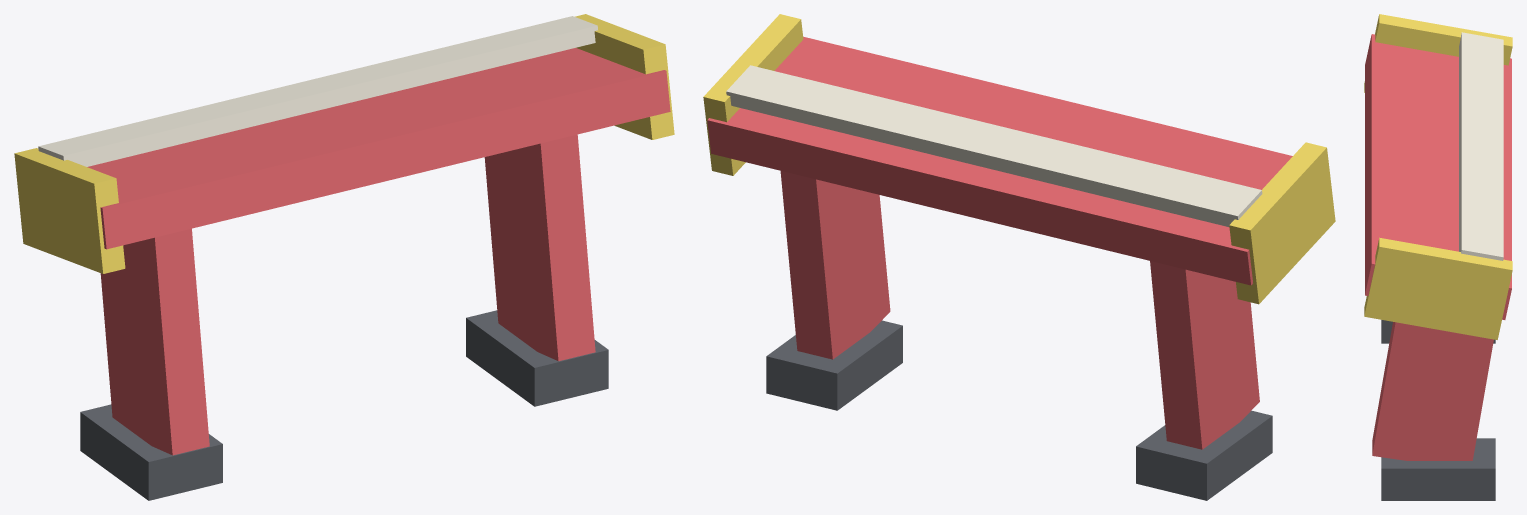
Rendered from lawn-mowing-simulator-kit-racing-spoiler-64b6e4a9__27364.glb.
3 renders of one model, left to right at view 1: azimuth 30°, elevation 25°; view 2: azimuth 150°, elevation 25°; view 3: azimuth 270°, elevation 25°, orthographic. The views are drawn at different scales.
Parts seen in each view (by area): view 1: racing-spoiler; view 2: racing-spoiler; view 3: racing-spoiler.
Part boxes in pixels (box(x1,y1,x2,y2)): racing-spoiler: box(14, 14, 674, 500); racing-spoiler: box(703, 14, 1335, 500); racing-spoiler: box(1364, 14, 1512, 500).
Bounding box in the file's own units: 0.77 × 0.4271 × 0.2075.
